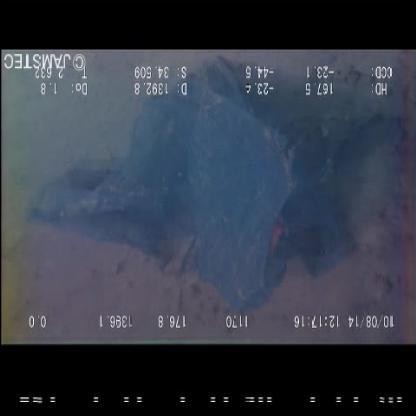Rác: (20, 68, 398, 311)
